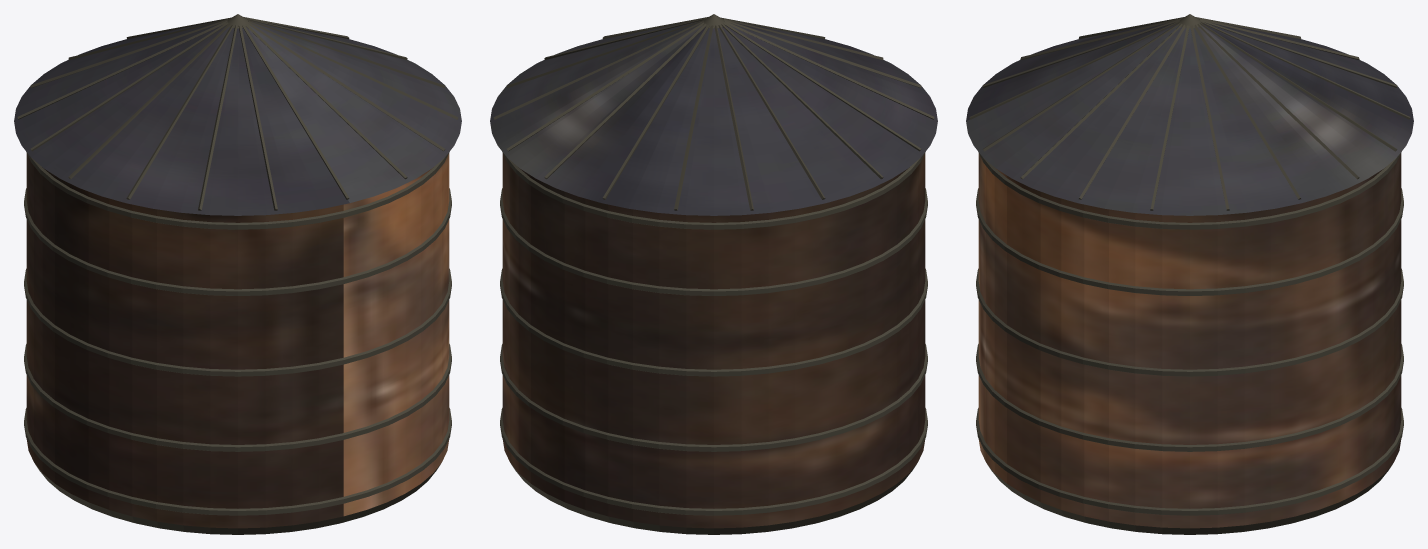
File: roof-cistern.glb
3 views of the same model, side by side, from view 1: azimuth 30°, elevation 25°; view 2: azimuth 150°, elevation 25°; view 3: azimuth 270°, elevation 25° (orthographic).
Size of the model in its own units: 3.18 by 3.42 by 3.18.
Materials: 1 (1 with a texture image).
